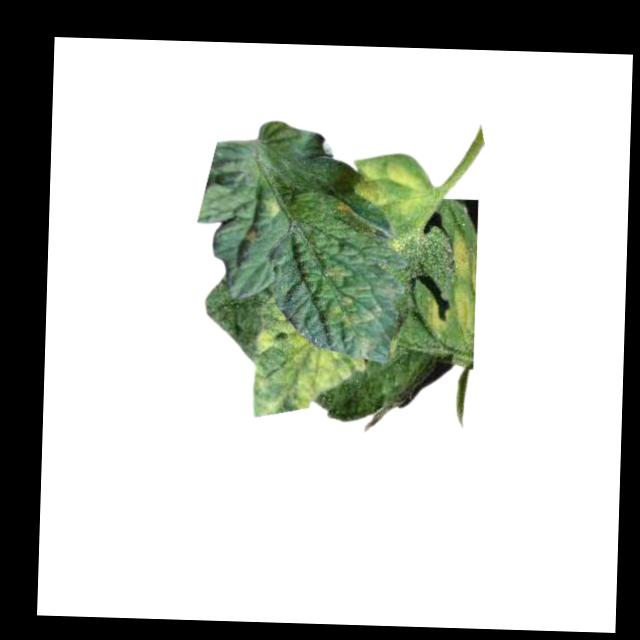Leaf_Mold: (251, 309, 369, 420), (352, 153, 428, 218), (323, 293, 389, 356), (447, 228, 474, 280), (453, 280, 476, 332), (321, 262, 357, 290), (429, 299, 451, 333), (331, 199, 353, 223), (264, 195, 280, 222)
